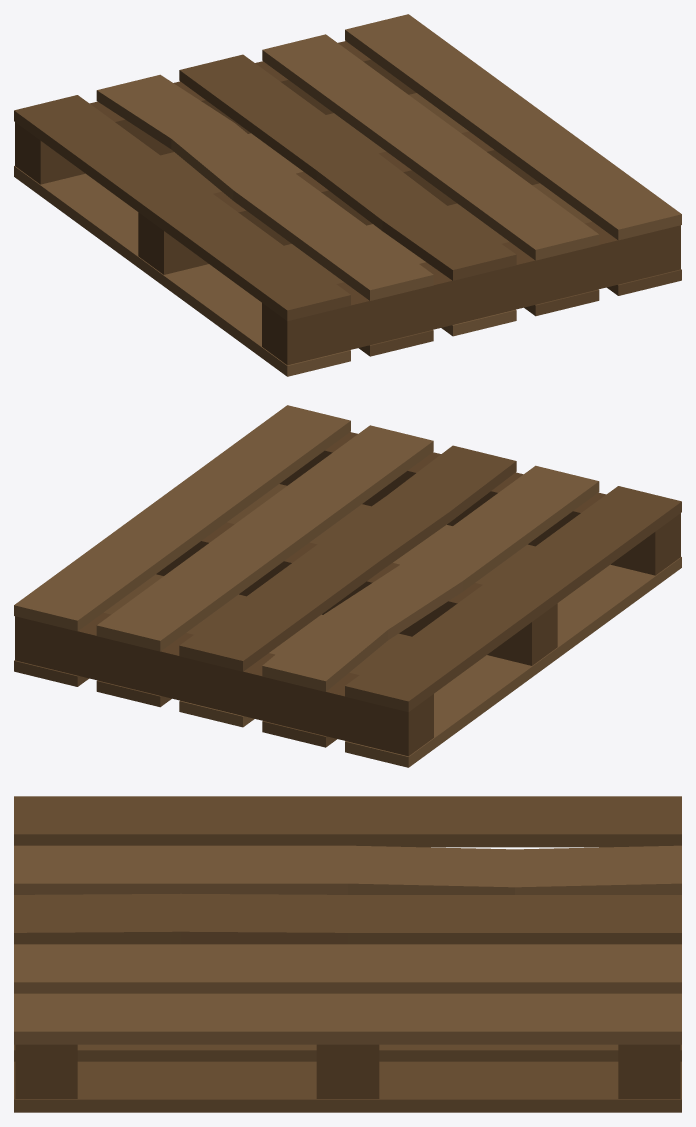
Rendered from Pallet_01.glb.
The picture shows the model from 3 angles, top to bottom: view 1: azimuth 30°, elevation 25°; view 2: azimuth 150°, elevation 25°; view 3: azimuth 270°, elevation 25°; orthographic projection. The views are drawn at different scales.
Visible parts, largest first — view 1: Pallet_01; view 2: Pallet_01; view 3: Pallet_01.
Boxes of the visible parts, box(x1,y1,x2,y2) form: Pallet_01: box(14, 14, 681, 376); Pallet_01: box(14, 405, 681, 767); Pallet_01: box(14, 796, 681, 1112).
Size of the model in its own units: 1.25 by 0.2009 by 1.5.
Materials: 1 (1 with a texture image).
